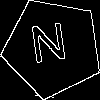N: (28, 22, 71, 72)
